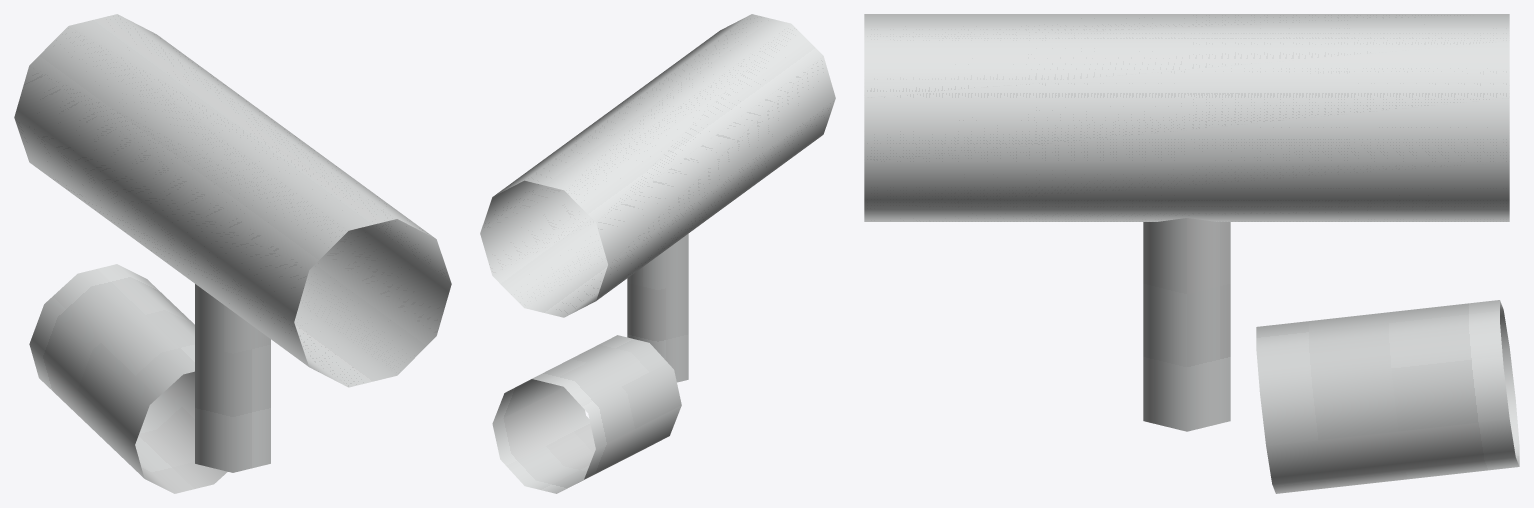
Rendered from trusssignalarm_level10_c11.obj.
The picture shows the model from 3 angles, left to right: view 1: azimuth 30°, elevation 25°; view 2: azimuth 150°, elevation 25°; view 3: azimuth 270°, elevation 25°; orthographic projection. The views are drawn at different scales.
Parts seen in each view (by area): view 1: trusssignalarm_level10_c11; view 2: trusssignalarm_level10_c11; view 3: trusssignalarm_level10_c11.
Part boxes in pixels (x1,y1,x2,y2): trusssignalarm_level10_c11: (14,14,451,493); trusssignalarm_level10_c11: (480,14,835,493); trusssignalarm_level10_c11: (864,14,1519,493).
Bounding box in the file's own units: 0.325 × 0.7784 × 1.02.
